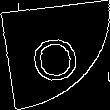O_N: (27, 27, 83, 83)
